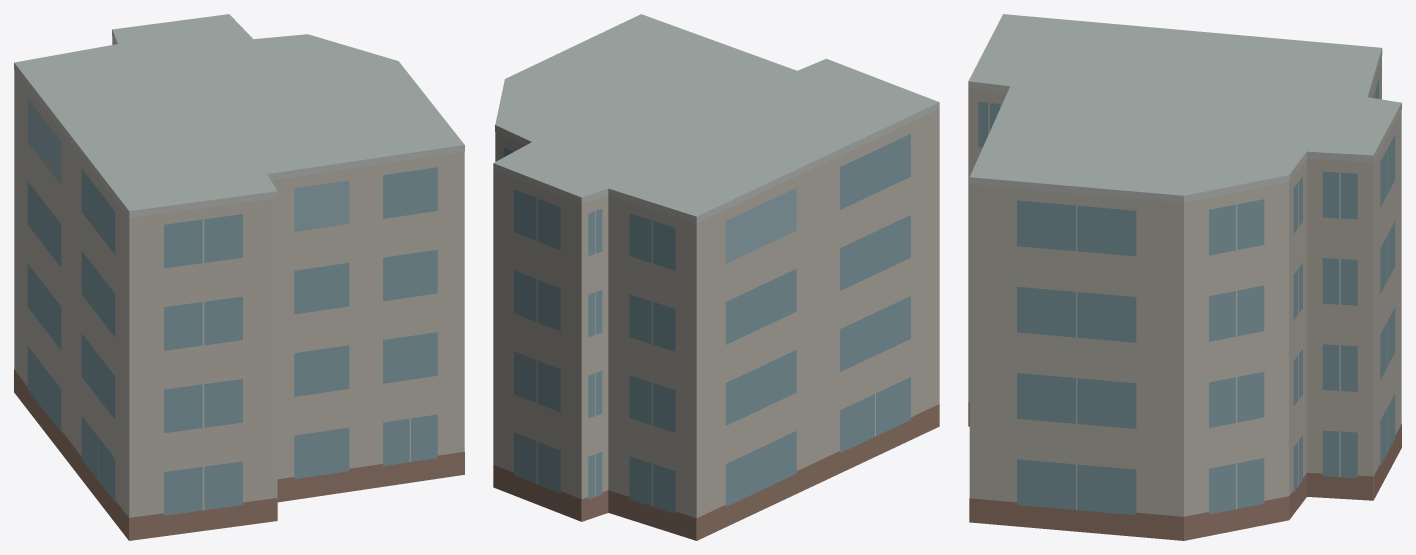
File: survey-upis-32866030.glb
3 renders of one model, left to right at view 1: azimuth 30°, elevation 25°; view 2: azimuth 150°, elevation 25°; view 3: azimuth 270°, elevation 25°, orthographic. The views are drawn at different scales.
Visible parts, largest first — view 1: survey-upis-32866030.tmp; view 2: survey-upis-32866030.tmp; view 3: survey-upis-32866030.tmp.
Part boxes in pixels (x1,y1,x2,y2): survey-upis-32866030.tmp: (14, 14, 464, 540); survey-upis-32866030.tmp: (493, 14, 939, 540); survey-upis-32866030.tmp: (968, 14, 1401, 540).
Bounding box in the file's own units: 13.17 × 11.65 × 13.27.
